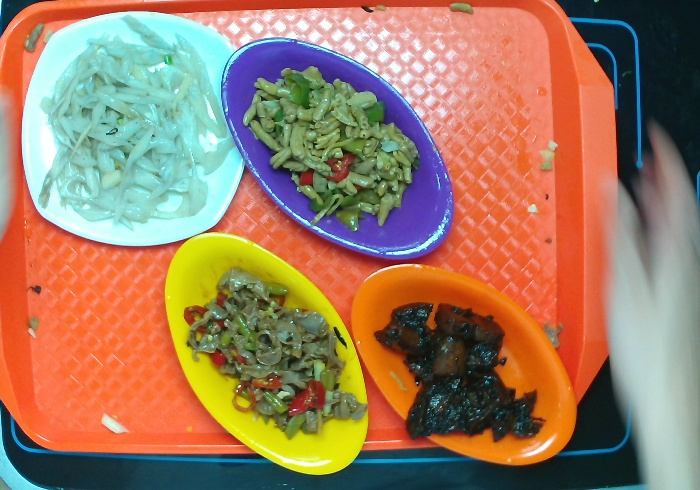RJxy-Fen_Hong_Tuo_Yuan: (222, 32, 461, 267)
RJxy-Huang_Se_Tuo_Yuan: (162, 232, 370, 480)
RJxy-Ju_Huang_Tuo_Yuan: (352, 264, 580, 469)
RJxy-Si_Fang_Die: (23, 12, 259, 252)
